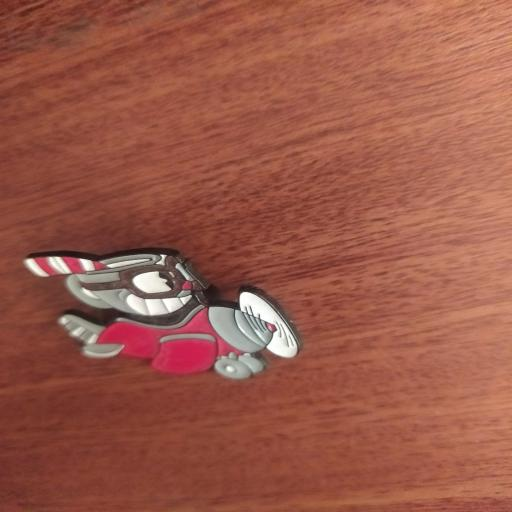Pin: (10, 242, 316, 386)
